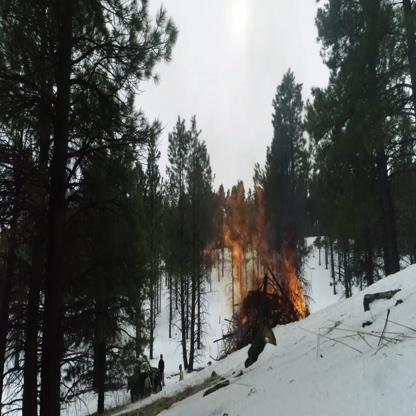Fire: (205, 178, 310, 333)
